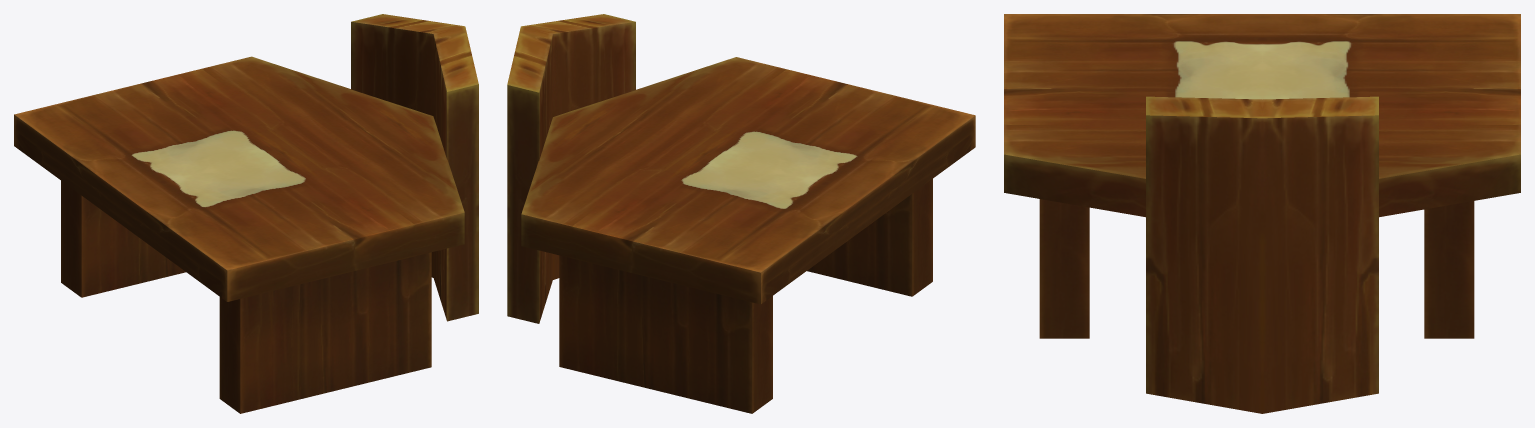
Rendered from Stage_01_02_ZhuoZi.FBX.
3 renders of one model, left to right at view 1: azimuth 30°, elevation 25°; view 2: azimuth 150°, elevation 25°; view 3: azimuth 270°, elevation 25°, orthographic. The views are drawn at different scales.
Parts seen in each view (by area): view 1: Stage_01_02_ZhuoZi; view 2: Stage_01_02_ZhuoZi; view 3: Stage_01_02_ZhuoZi.
Part boxes in pixels (x1,y1,x2,y2): Stage_01_02_ZhuoZi: (14, 14, 478, 413); Stage_01_02_ZhuoZi: (507, 14, 975, 413); Stage_01_02_ZhuoZi: (1004, 14, 1520, 413).
Bounding box in the file's own units: 159 × 107 × 170.
